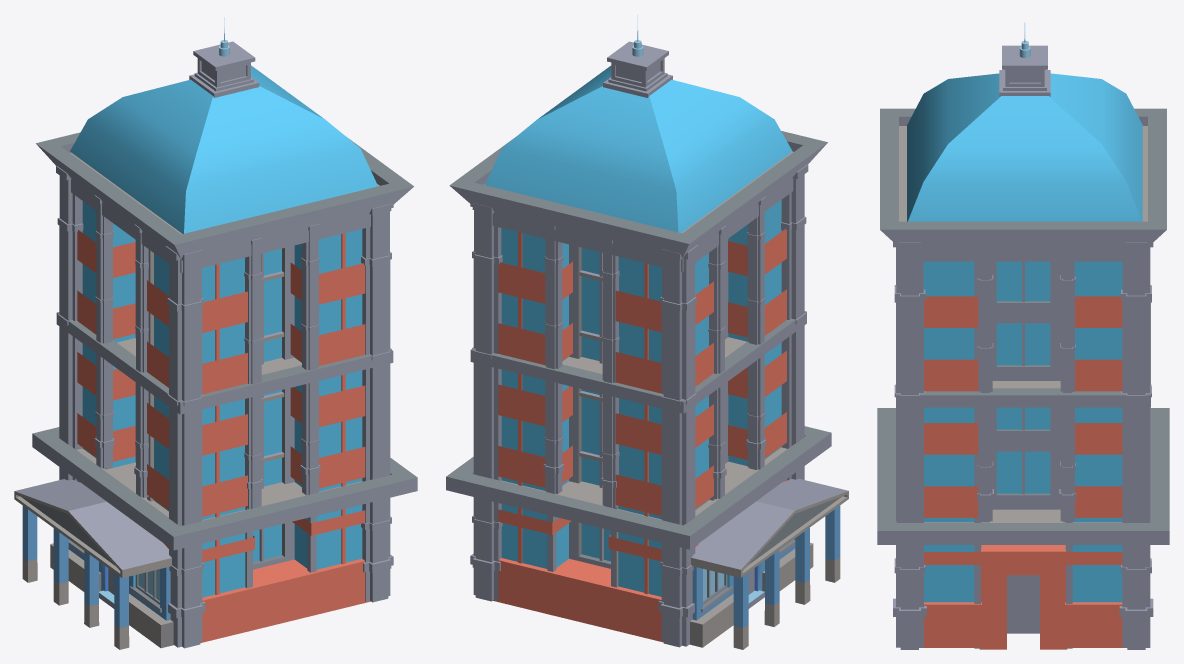
The model's file is putong_zhongxing08.fbx.
3 renders of one model, left to right at view 1: azimuth 30°, elevation 25°; view 2: azimuth 150°, elevation 25°; view 3: azimuth 270°, elevation 25°, orthographic. The views are drawn at different scales.
Visible parts, largest first — view 1: putong_zhongxing08; view 2: putong_zhongxing08; view 3: putong_zhongxing08.
Part boxes in pixels (x1,y1,x2,y2): putong_zhongxing08: (14, 17, 417, 649); putong_zhongxing08: (446, 15, 848, 649); putong_zhongxing08: (877, 22, 1169, 649).
Bounding box in the file's own units: 500 × 440 × 977.
